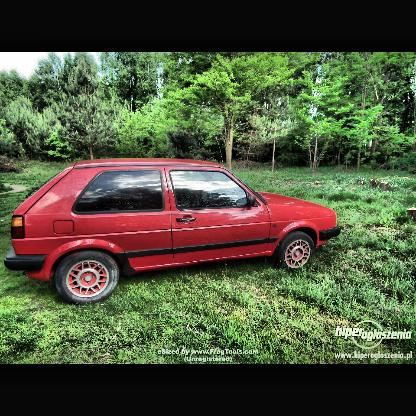Volkswagen Golf Hatchback 1991: (5, 160, 342, 305)
